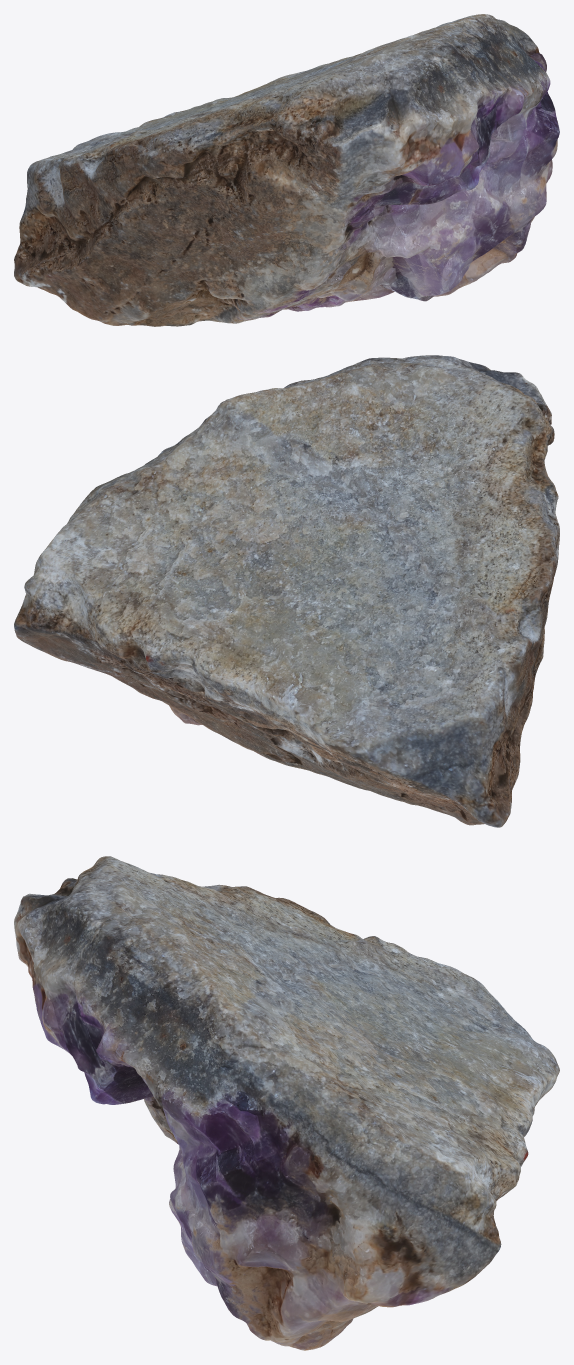
Rendered from fluorita.gltf.
The picture shows the model from 3 angles, top to bottom: view 1: azimuth 30°, elevation 25°; view 2: azimuth 150°, elevation 25°; view 3: azimuth 270°, elevation 25°; orthographic projection. The views are drawn at different scales.
Parts seen in each view (by area): view 1: Model; view 2: Model; view 3: Model.
Boxes of the visible parts, bbox=[...] form: Model: bbox=[14, 14, 559, 326]; Model: bbox=[14, 355, 559, 827]; Model: bbox=[14, 856, 559, 1350].
Size of the model in its own units: 1.7 by 1.08 by 1.4.
Materials: 4 (4 with a texture image).
